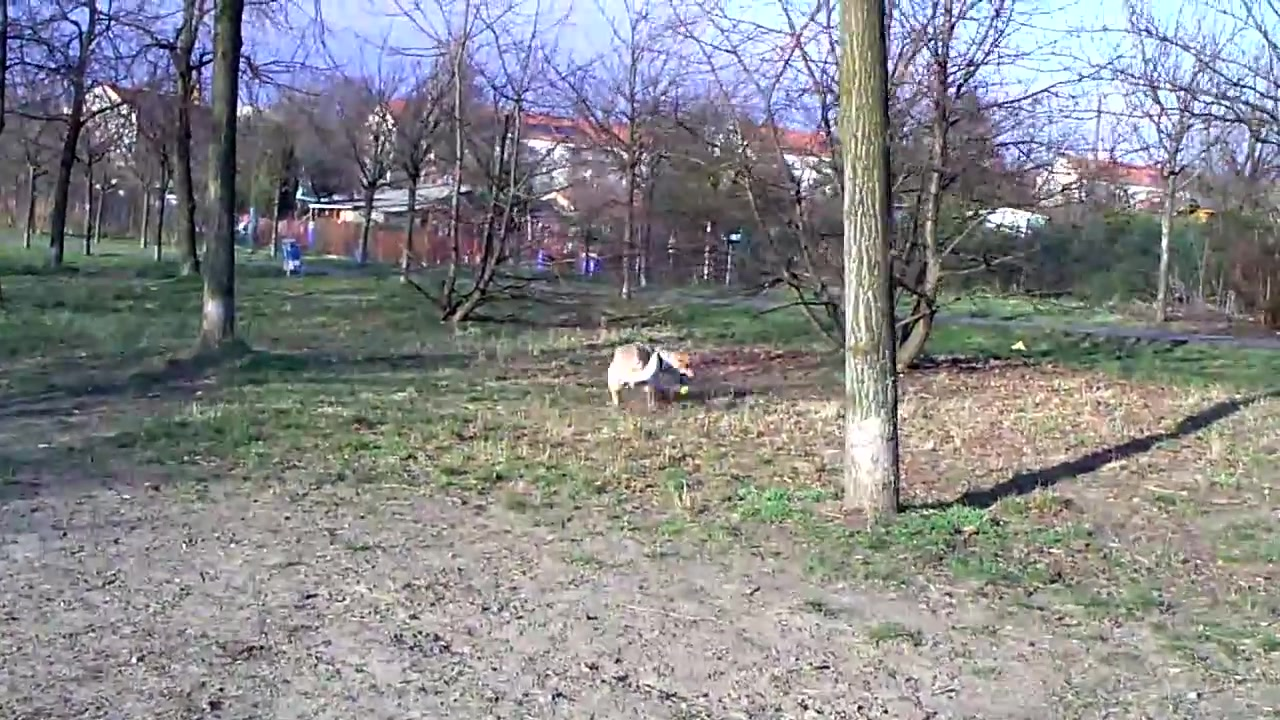dog: (606, 340, 695, 411)
